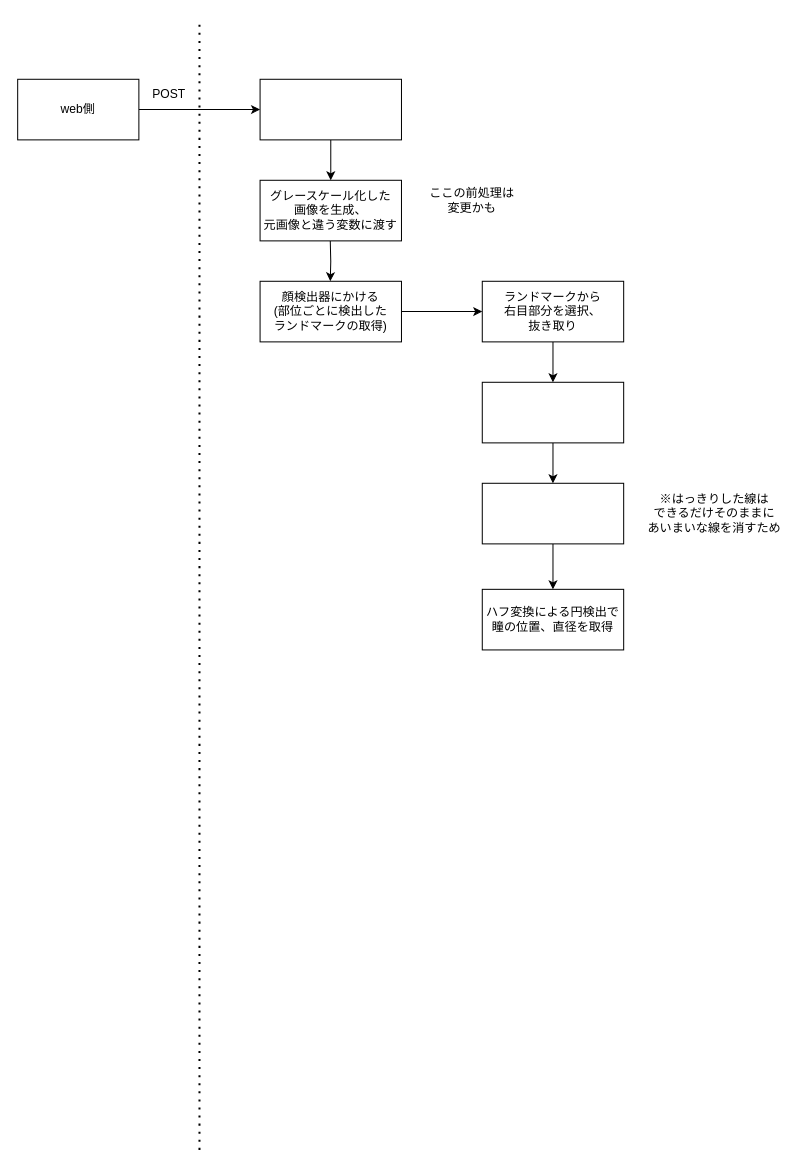
This 803x1169 diagram has some shape labels left out. Here are the shapes that lost their labels. From the top down, the box of each, then its label:
(259, 78, 401, 140): 画像を変数に入れる
(481, 381, 624, 443): 瞳周辺のランドマーク から瞳の大体の 直径を予想する
(481, 482, 624, 544): 右目画像を前処理 ・二値化 ・ガウシアンぼかし
